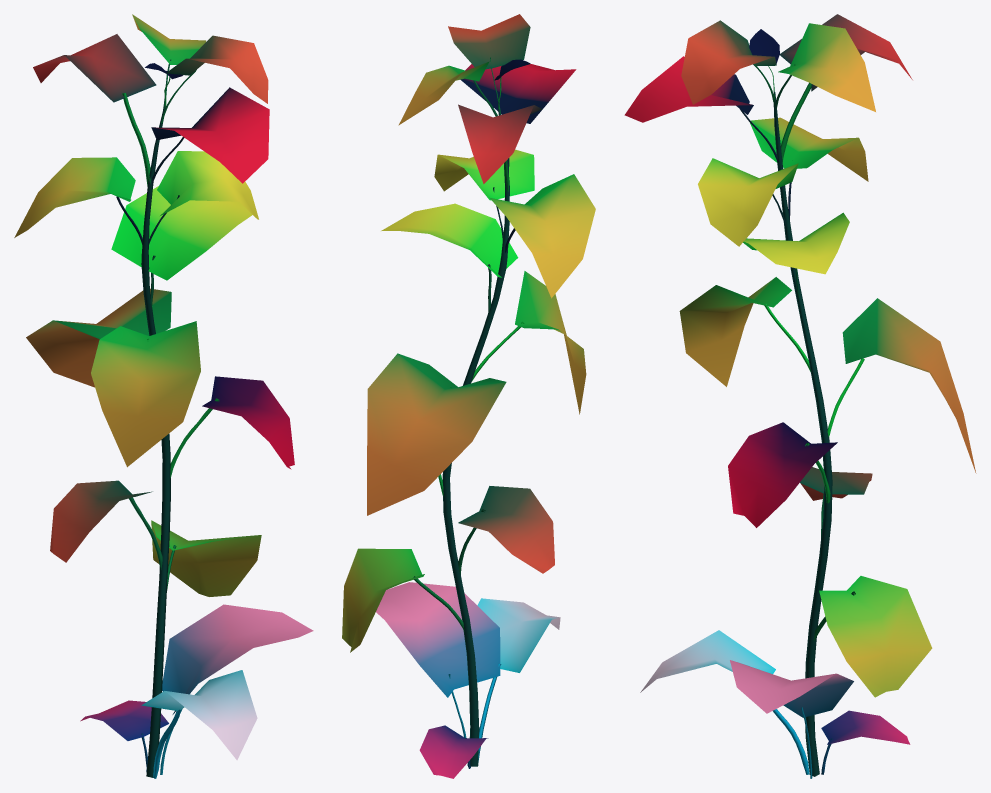
File: Money_Plant_uchmfdyia_Low_uchmfdyia_VarA_LOD0.fbx
3 renders of one model, left to right at view 1: azimuth 30°, elevation 25°; view 2: azimuth 150°, elevation 25°; view 3: azimuth 270°, elevation 25°, orthographic. The views are drawn at different scales.
Parts seen in each view (by area): view 1: _ffc1_VarA_LOD1; view 2: _ffc1_VarA_LOD1; view 3: _ffc1_VarA_LOD1.
Boxes of the visible parts, x1,y1,x2,y2 form: _ffc1_VarA_LOD1: (14,14,313,778); _ffc1_VarA_LOD1: (342,14,595,778); _ffc1_VarA_LOD1: (624,14,976,778).
Size of the model in its own units: 18.8 by 52.52 by 22.39.
